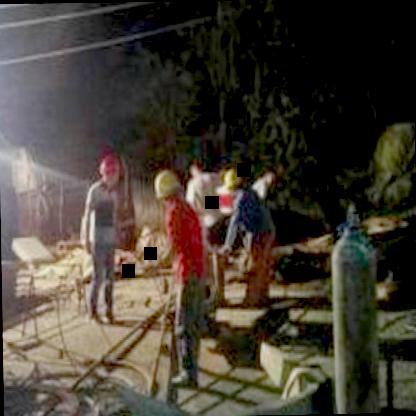helmet: (154, 167, 186, 216), (94, 146, 126, 192), (223, 167, 245, 196)
